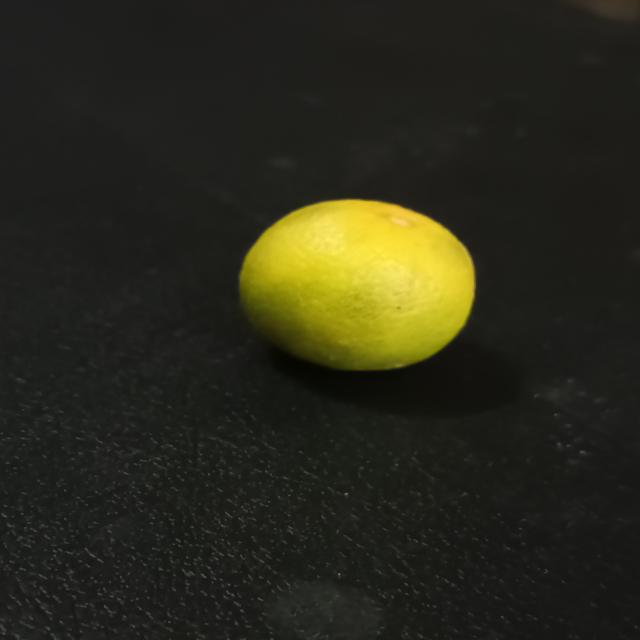greening: (234, 197, 478, 376)
